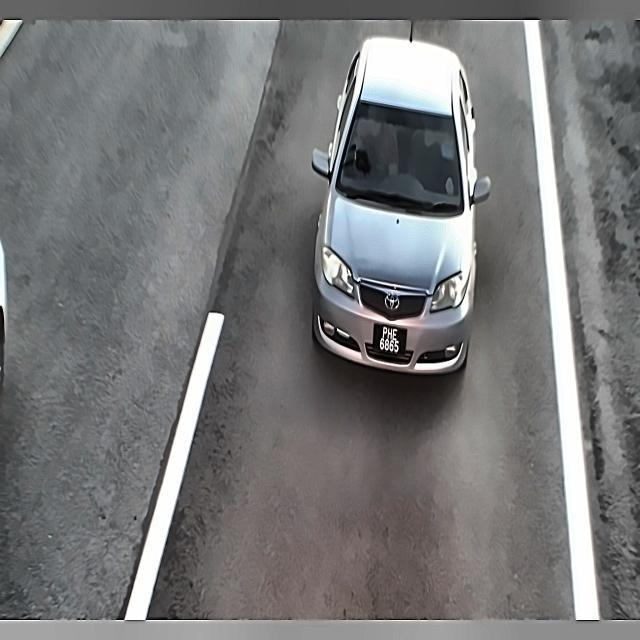car: (372, 319, 409, 364)
